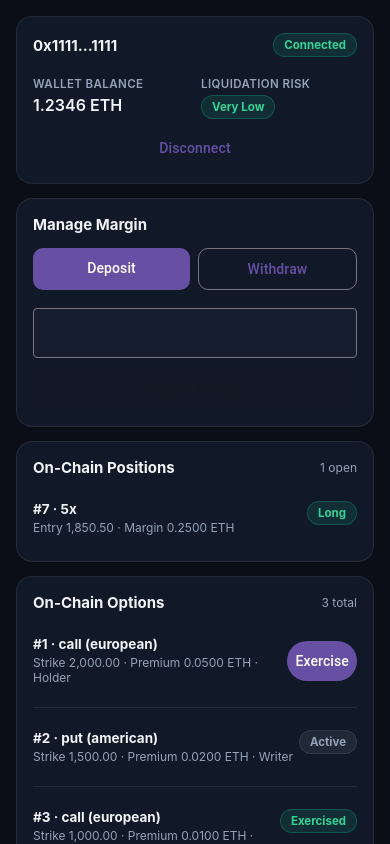
Test: margin and transactions › uses a generic message for a failure without details
The width and height of the screenshot is (390, 844).
Expected: the text "1.2346 ETH" is shown, 33,95 -> 122,115
Type "1" into the field with test id "text-input-outlined" at (195, 334), box 33,310 -> 357,358
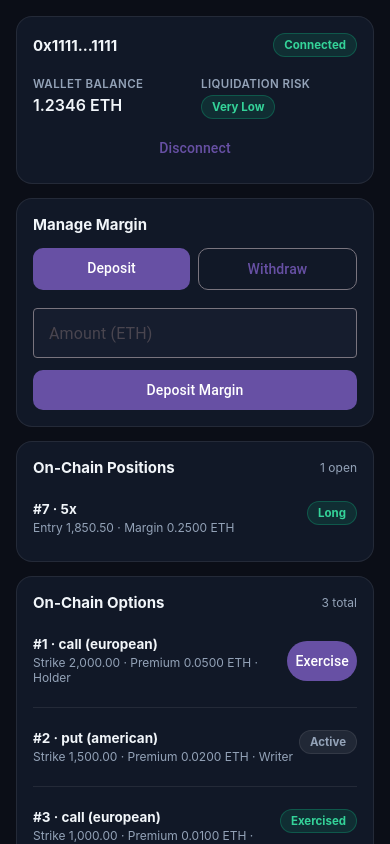
Click the button "Deposit Margin" at (195, 390), box 33,370 -> 357,410
Wait 2000 ms
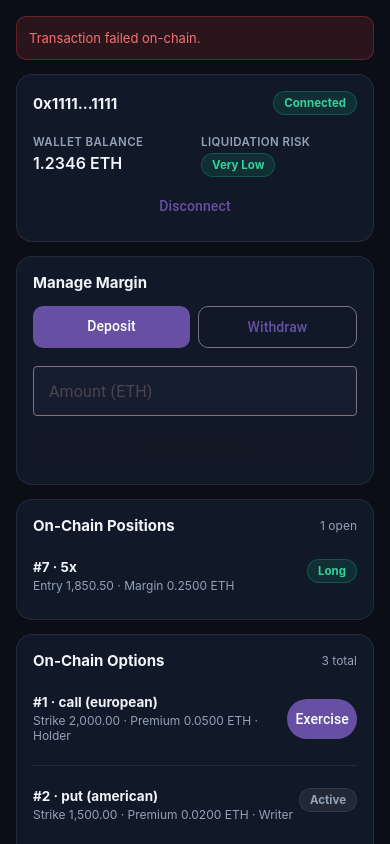
Now the text "Transaction failed on-chain." is shown, box 29,30 -> 200,46
